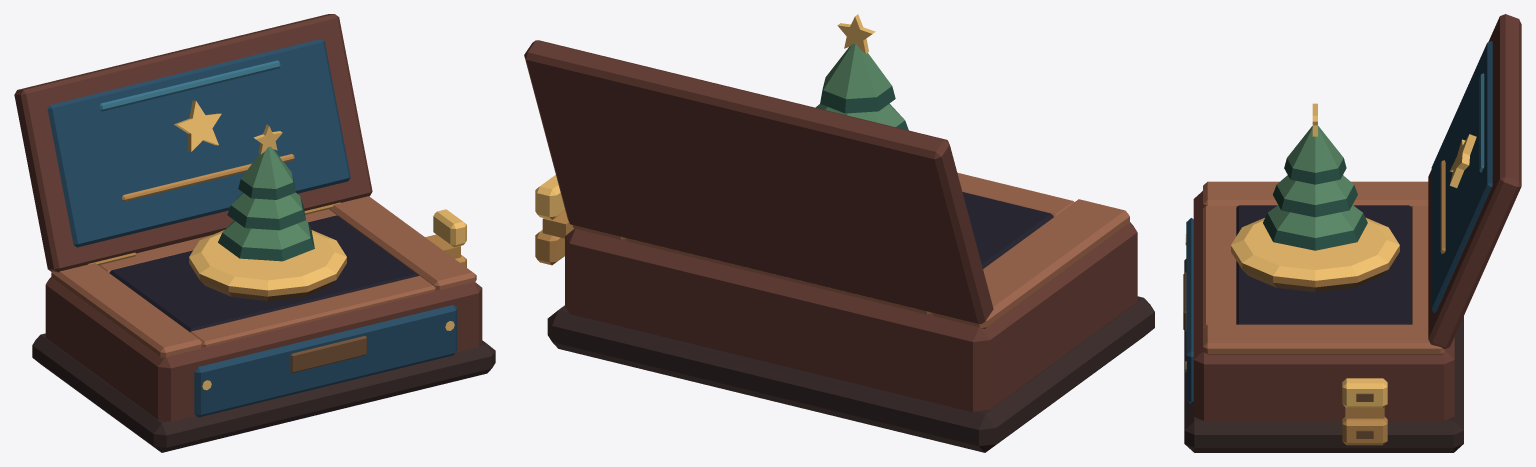
Rendered from windup_music_box.glb.
The picture shows the model from 3 angles, left to right: view 1: azimuth 30°, elevation 25°; view 2: azimuth 150°, elevation 25°; view 3: azimuth 270°, elevation 25°; orthographic projection. The views are drawn at different scales.
Visible parts, largest first — view 1: music_box_shell, turntable_pivot, wind_key_pivot; view 2: music_box_shell, turntable_pivot, wind_key_pivot; view 3: music_box_shell, turntable_pivot, wind_key_pivot.
Boxes of the visible parts, bbox=[...] form: music_box_shell: bbox=[14, 14, 495, 452]; turntable_pivot: bbox=[189, 124, 346, 300]; wind_key_pivot: bbox=[425, 209, 466, 267]; music_box_shell: bbox=[524, 40, 1154, 452]; turntable_pivot: bbox=[816, 14, 908, 130]; wind_key_pivot: bbox=[535, 175, 573, 265]; music_box_shell: bbox=[1183, 14, 1521, 452]; turntable_pivot: bbox=[1231, 103, 1399, 292]; wind_key_pivot: bbox=[1342, 378, 1387, 445].
Bounding box in the file's own units: 0.327 × 0.2064 × 0.2319.
